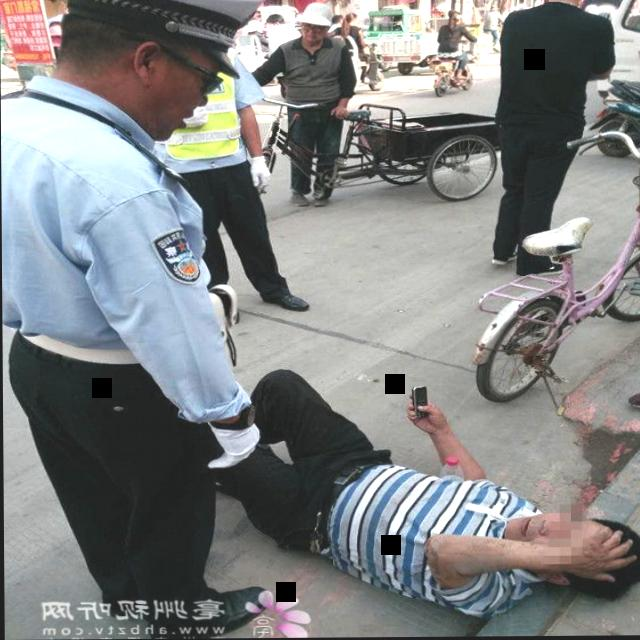Fall-Detected: (183, 341, 640, 634)
